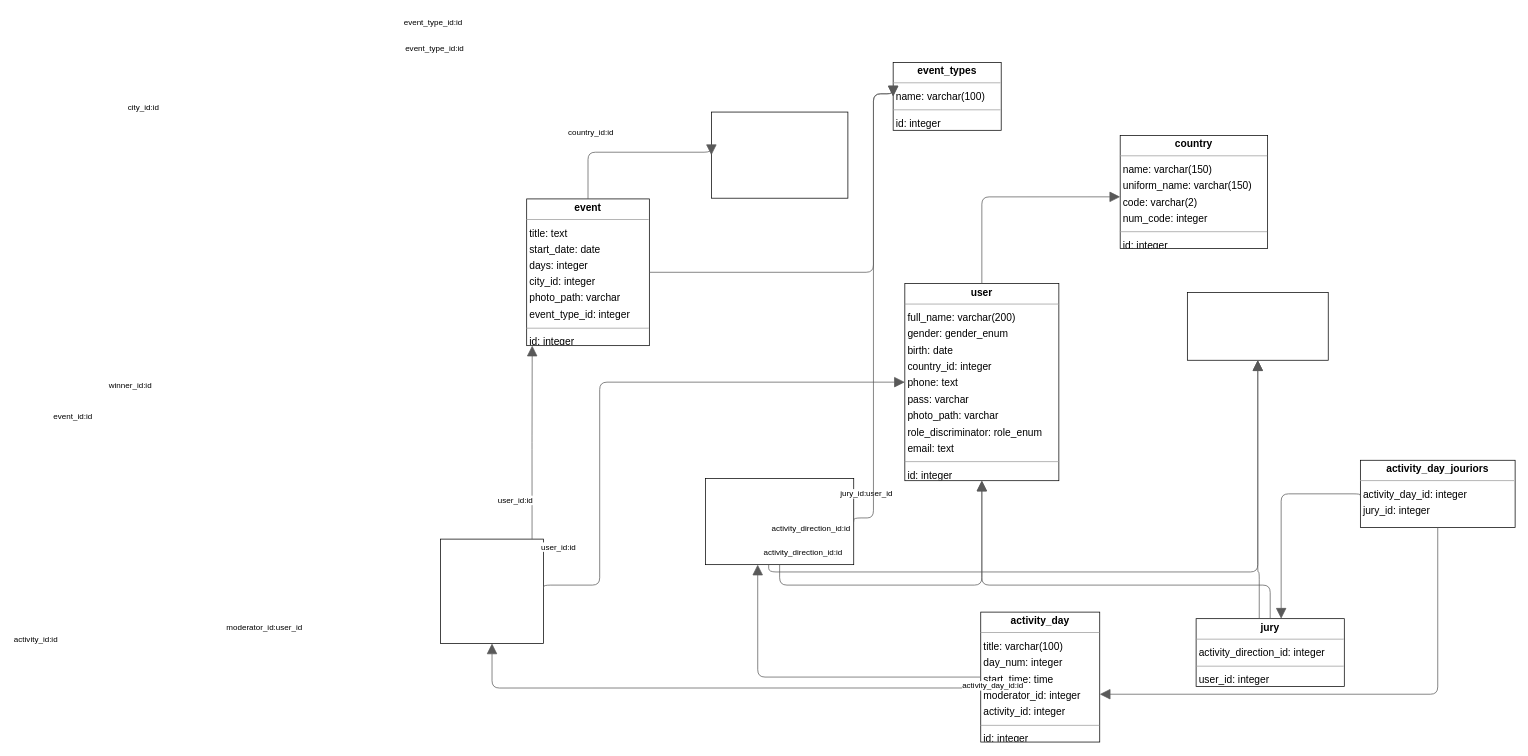
This 1528x756 diagram has some shape labels left out. The shapes that lost their labels are listed below. From the top down, each one's centre as x and y in pixels, then its label:
At point (779, 154): "city name: varchar(100) photo_path: varchar(500) id: integer".
At point (1257, 326): "activity_directions name: varchar(100) id: integer".
At point (779, 521): "moderator activity_direction_id: integer event_type_id: integer user_id: integer".
At point (491, 590): "activity event_id: integer winner_id: integer days: integer id: integer".
